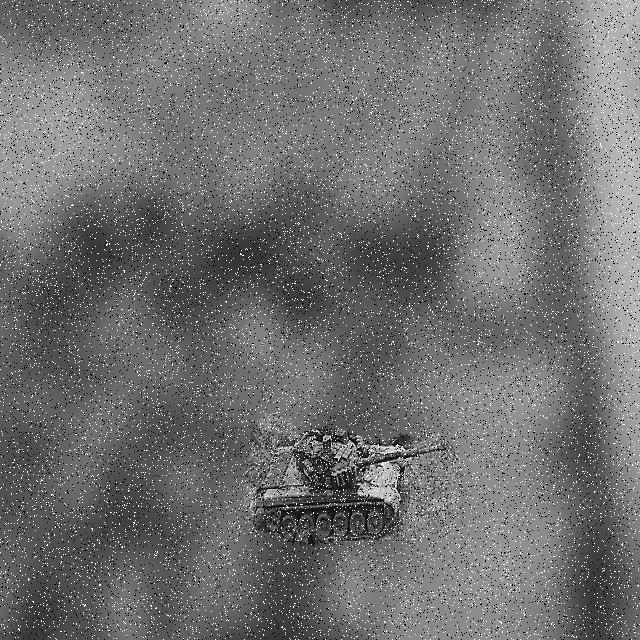MIL_MBT: (258, 434, 447, 541)
